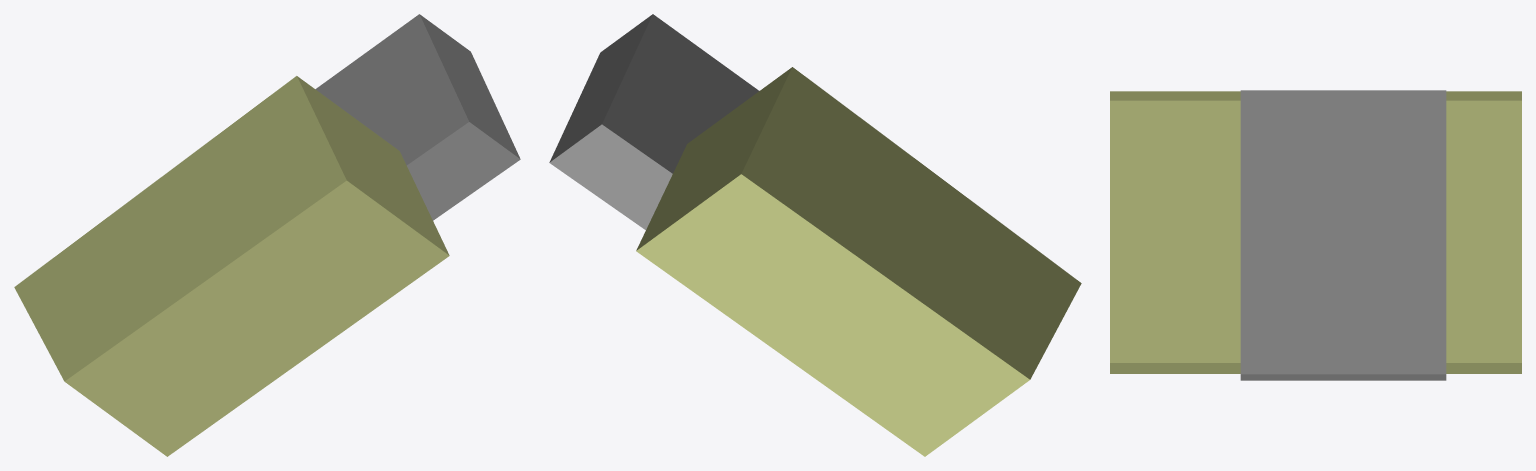
The picture shows the model from 3 angles, left to right: view 1: azimuth 30°, elevation 25°; view 2: azimuth 150°, elevation 25°; view 3: azimuth 270°, elevation 25°; orthographic projection. The views are drawn at different scales.
Visible parts, largest first — view 1: 0_1_0_0_1_0_3_0_3_0_0; view 2: 0_1_0_0_1_0_3_0_3_0_0; view 3: 0_1_0_0_1_0_3_0_3_0_0.
Part boxes in pixels (x1,y1,x2,y2): 0_1_0_0_1_0_3_0_3_0_0: (14,14,520,456); 0_1_0_0_1_0_3_0_3_0_0: (549,14,1081,456); 0_1_0_0_1_0_3_0_3_0_0: (1110,90,1521,380).
Bounding box in the file's own units: 14.68 × 9.63 × 6.
